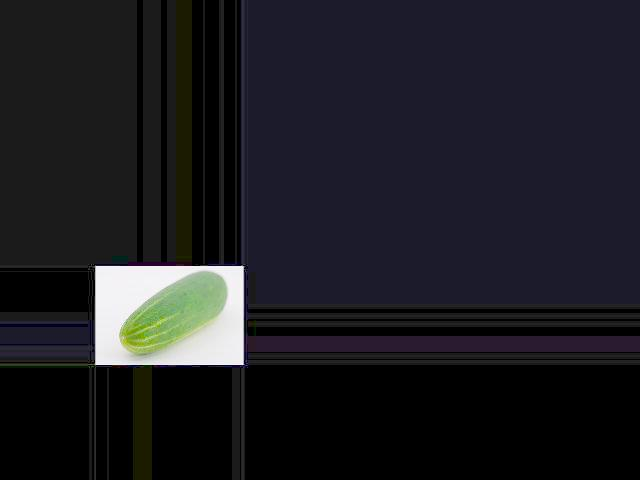cucumber: (119, 271, 228, 354)
